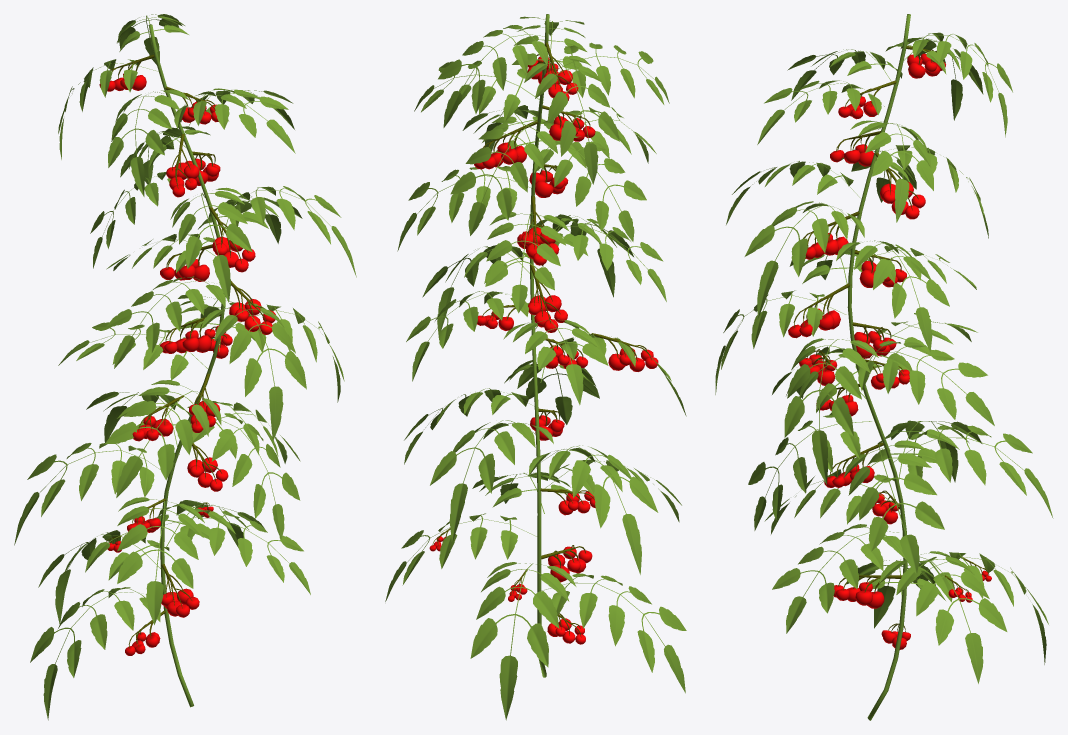
File: mod_BG_TomatPlant_01_ApplyModify.fbx
3 views of the same model, side by side, from view 1: azimuth 30°, elevation 25°; view 2: azimuth 150°, elevation 25°; view 3: azimuth 270°, elevation 25° (orthographic). The views are drawn at different scales.
Parts seen in each view (by area): view 1: Leaf, Stem, Tomate01.009, Tomate01.004, Tomate01.008, Tomate01.011, Tomate01.016, Tomate01.013, Tomate01.005, Tomate01.010, Tomate01, Tomate01.015 (+3 smaller); view 2: Leaf, Stem, Tomate01.008, Tomate01.012, Tomate01.016, Tomate01.005, Tomate01.010, Tomate01.003, Tomate01.013, Tomate01.011, Tomate01.015, Tomate01 (+3 smaller); view 3: Leaf, Stem, Tomate01.016, Tomate01.009, Tomate01.012, Tomate01.008, Tomate01.013, Tomate01.011, Tomate01.004, Tomate01.005, Tomate01.010, Tomate01.015 (+2 smaller).
Part boxes in pixels (x1,y1,x2,y2): Leaf: (14, 14, 356, 720); Stem: (148, 24, 225, 707); Tomate01.009: (229, 281, 275, 334); Tomate01.004: (187, 443, 228, 491); Tomate01.008: (159, 314, 221, 353); Tomate01.011: (209, 207, 255, 272); Tomate01.016: (161, 564, 199, 617); Tomate01.013: (166, 134, 199, 197); Tomate01.005: (132, 395, 183, 441); Tomate01.010: (160, 244, 212, 281); Tomate01: (125, 610, 165, 655); Tomate01.015: (99, 54, 154, 91); Leaf: (385, 16, 686, 720); Stem: (530, 14, 549, 677); Tomate01.008: (528, 265, 567, 332); Tomate01.012: (474, 120, 538, 169); Tomate01.016: (541, 545, 592, 582); Tomate01.005: (591, 333, 658, 371); Tomate01.010: (521, 196, 559, 265); Tomate01.003: (540, 488, 595, 515); Tomate01.013: (542, 105, 595, 141); Tomate01.011: (529, 164, 568, 197); Tomate01.015: (543, 42, 578, 100); Tomate01: (547, 613, 585, 644); Leaf: (715, 32, 1053, 683); Stem: (847, 14, 910, 720); Tomate01.016: (833, 575, 901, 608); Tomate01.009: (788, 283, 851, 338); Tomate01.012: (875, 152, 925, 219); Tomate01.008: (852, 322, 896, 358); Tomate01.013: (830, 131, 880, 166); Tomate01.011: (803, 211, 859, 259); Tomate01.004: (824, 442, 883, 487); Tomate01.005: (799, 349, 837, 385); Tomate01.010: (854, 250, 906, 287); Tomate01.015: (906, 46, 945, 78).
Size of the model in its own units: 65.77 by 157 by 69.11.
